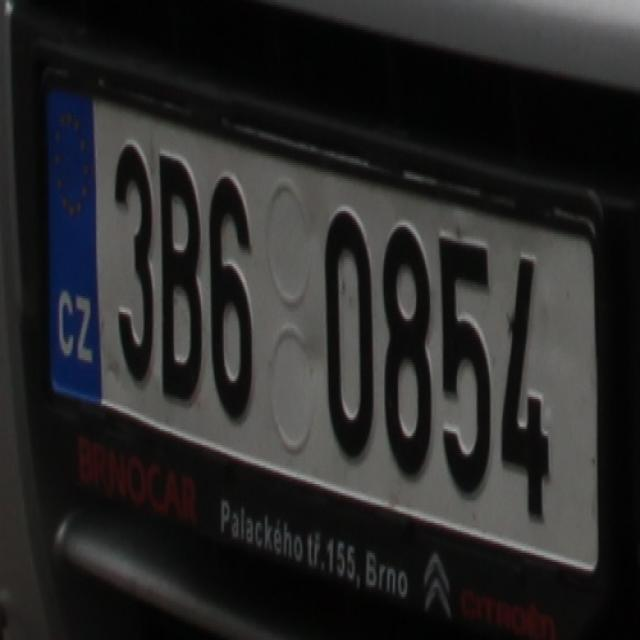0: (324, 200, 375, 458)
3: (112, 137, 156, 386)
4: (500, 250, 554, 521)
5: (435, 220, 494, 498)
6: (207, 170, 255, 426)
8: (382, 213, 432, 482)
B: (154, 149, 203, 404)
